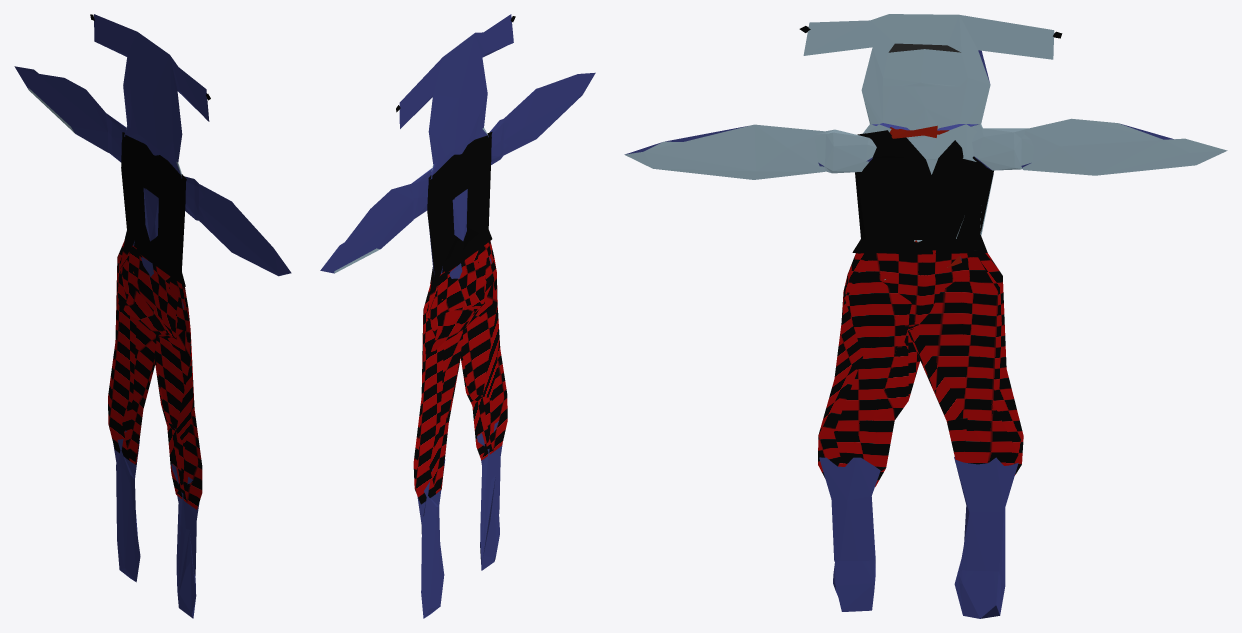
Rendered from FlatShark.glb.
3 renders of one model, left to right at view 1: azimuth 30°, elevation 25°; view 2: azimuth 150°, elevation 25°; view 3: azimuth 270°, elevation 25°, orthographic. The views are drawn at different scales.
Parts seen in each view (by area): view 1: FlatSharkly; view 2: FlatSharkly; view 3: FlatSharkly.
Boxes of the visible parts, x1=… form: FlatSharkly: x1=14, y1=14, x2=291, y2=618; FlatSharkly: x1=320, y1=14, x2=595, y2=618; FlatSharkly: x1=624, y1=14, x2=1227, y2=618.
Bounding box in the file's own units: 0.0264 × 2.25 × 2.04.
Materials: 7 (1 with a texture image).
